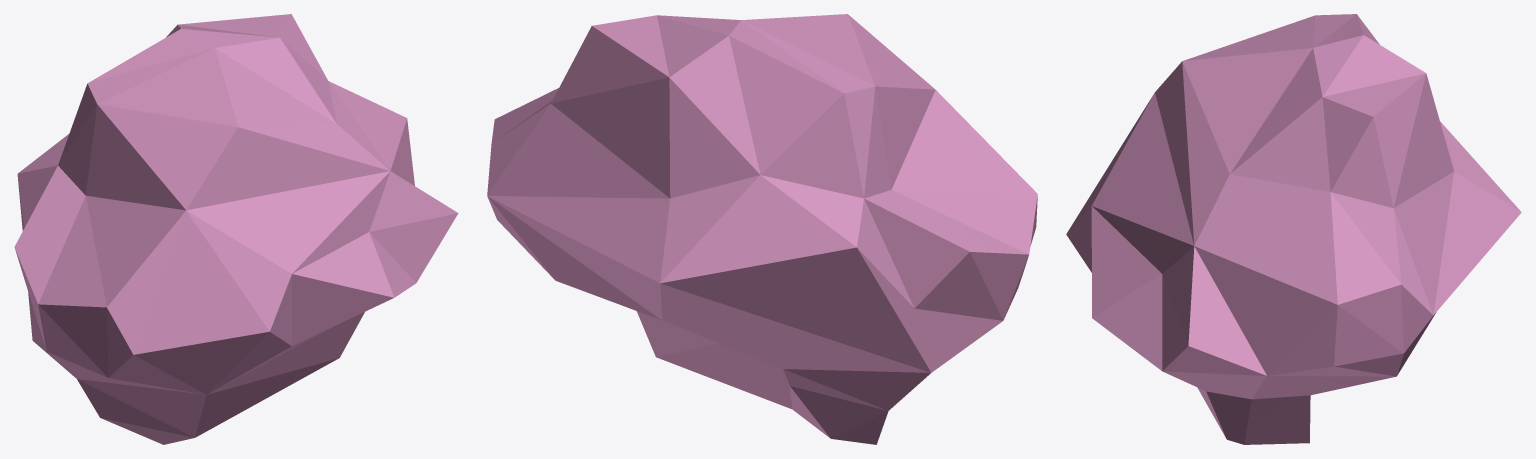
Rendered from item_ore_silver_l.glb.
3 renders of one model, left to right at view 1: azimuth 30°, elevation 25°; view 2: azimuth 150°, elevation 25°; view 3: azimuth 270°, elevation 25°, orthographic. The views are drawn at different scales.
Visible parts, largest first — view 1: Ore_Mineral_Drop_L; view 2: Ore_Mineral_Drop_L; view 3: Ore_Mineral_Drop_L.
Boxes of the visible parts, bbox=[...] form: Ore_Mineral_Drop_L: bbox=[14, 14, 458, 444]; Ore_Mineral_Drop_L: bbox=[487, 14, 1037, 444]; Ore_Mineral_Drop_L: bbox=[1066, 14, 1521, 444].
Size of the model in its own units: 0.3785 by 0.3124 by 0.3155.
